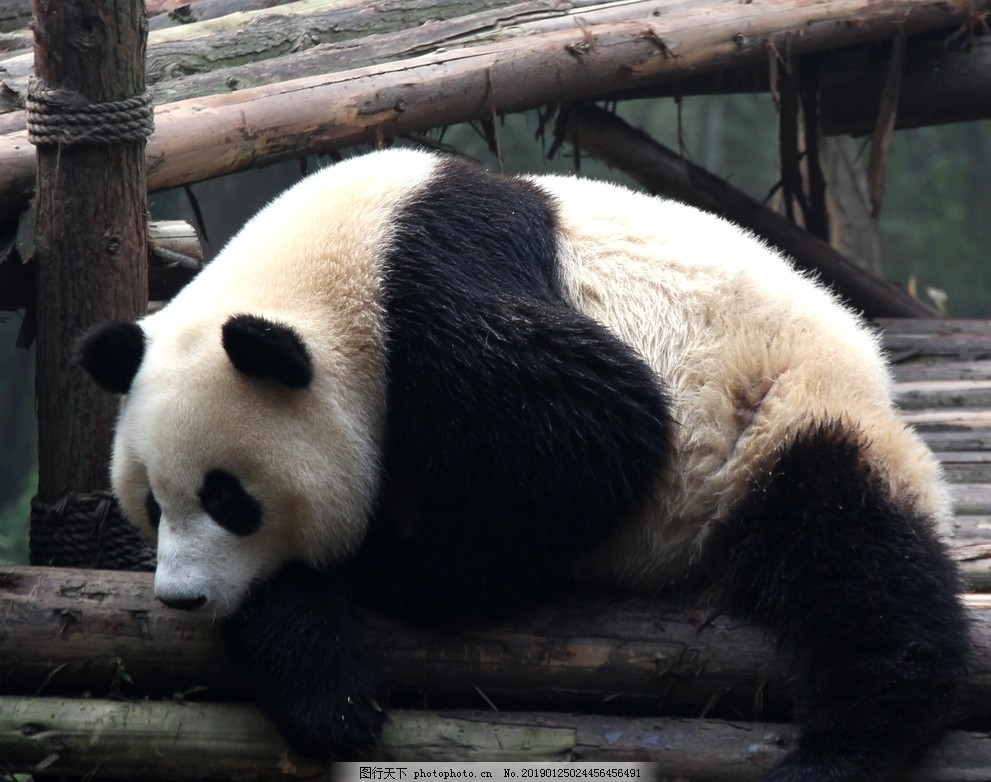panda: (78, 129, 961, 771)
